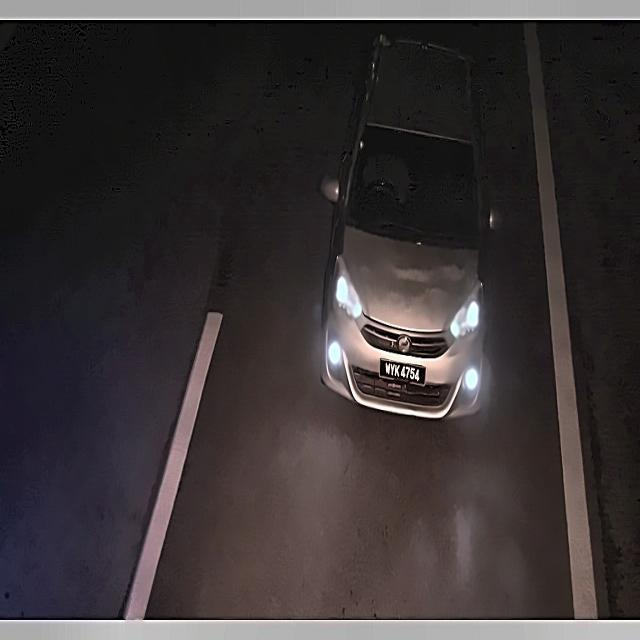car: (379, 352, 427, 388)
